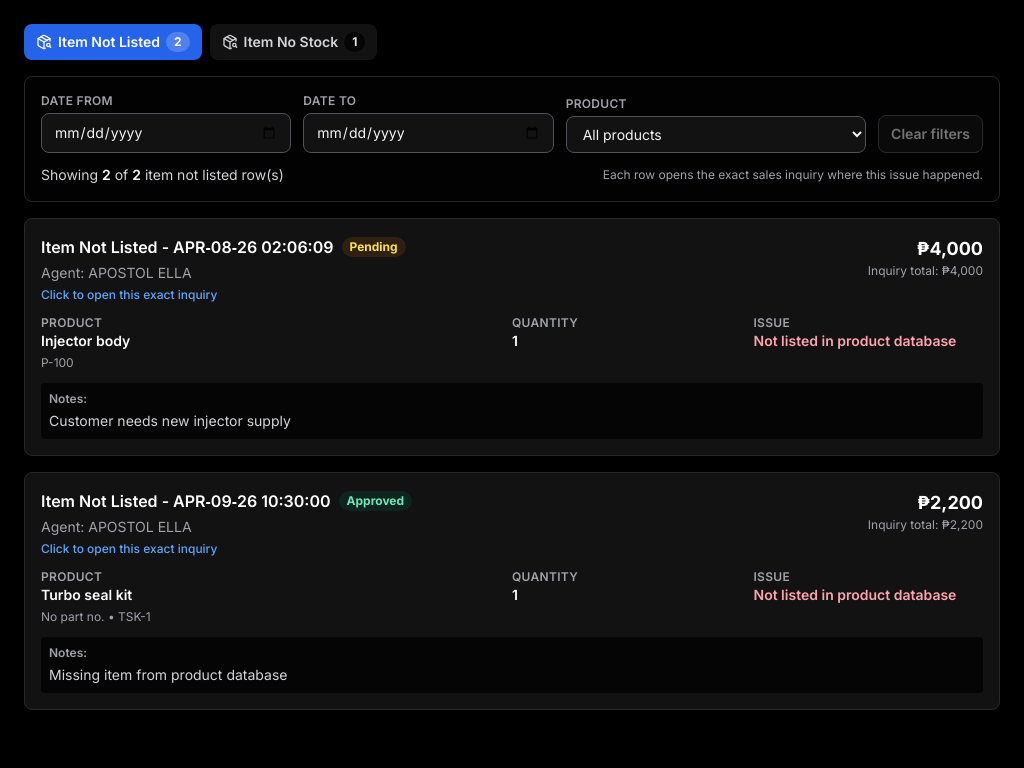
it: ItemIssueReportTab › renders item-not-listed rows by default and switches to no-stock rows
Check: the text "Showing 2 of 2 item not listed row(s)" is shown, box [41,165,284,185]
Check: the button with aria-label "Open item not listed inquiry sales-inquiry-db-1" is shown, box [24,218,1000,456]
Click the button "Item No Stock 1" at (293, 42), box [210,24,377,60]
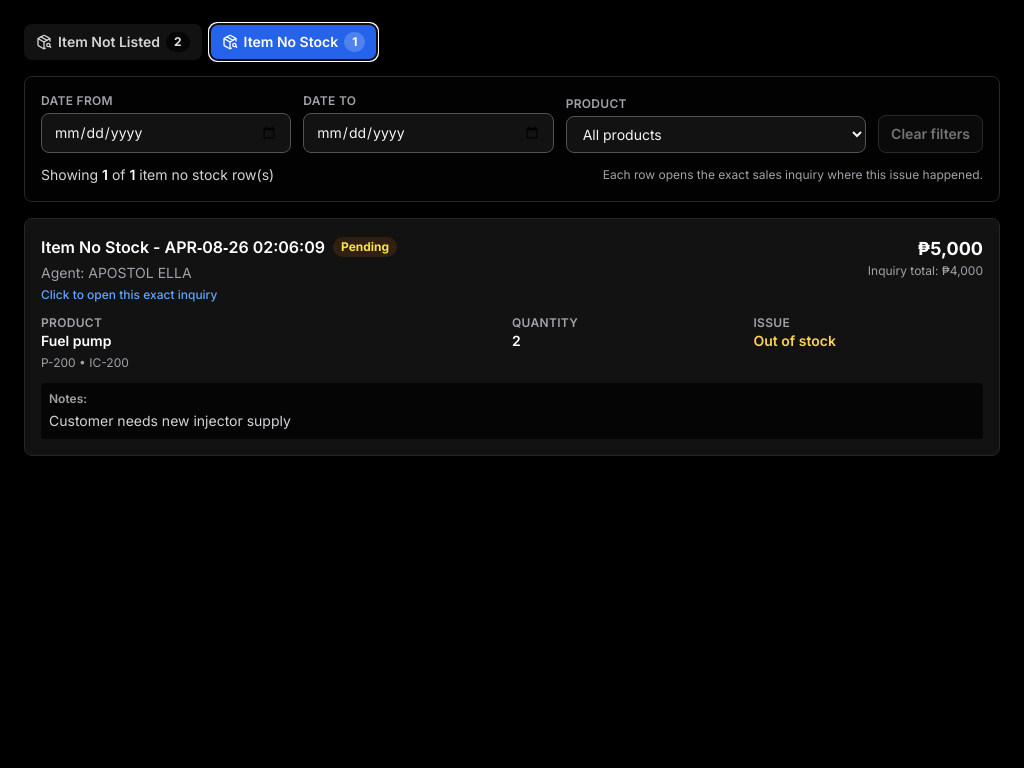
Check: the text "Showing 1 of 1 item no stock row(s)" is shown, box [41,165,274,185]
Check: the button with aria-label "Open item no stock inquiry sales-inquiry-db-1" is shown, box [24,218,1000,456]
